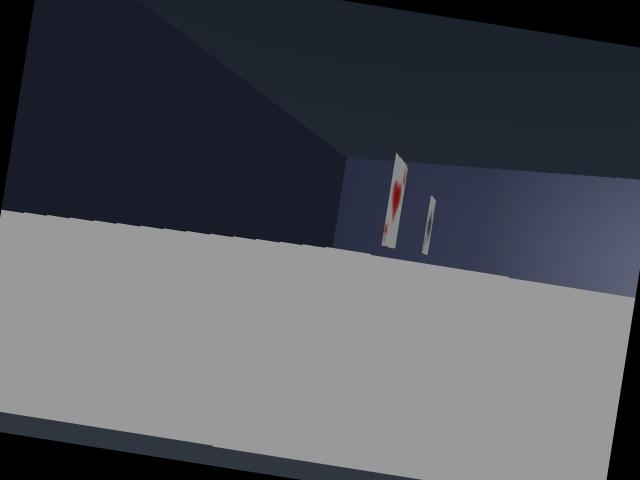club: (422, 196, 435, 254)
heart: (382, 154, 407, 247)
